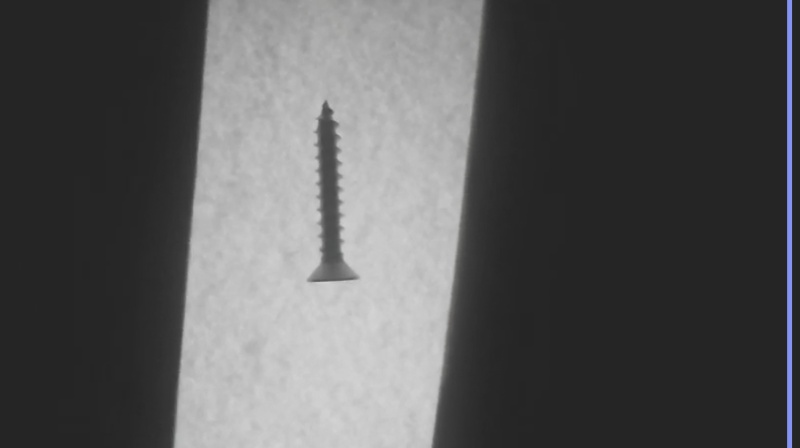S001: (305, 95, 359, 285)
